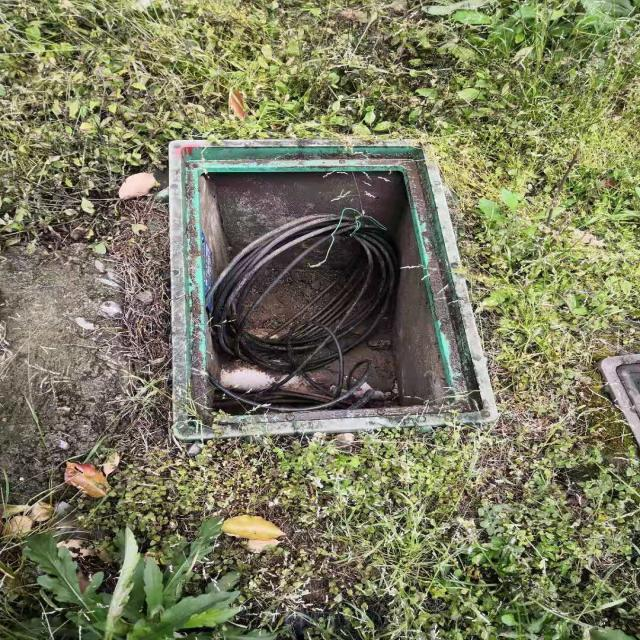Faulty: (165, 136, 499, 442)
